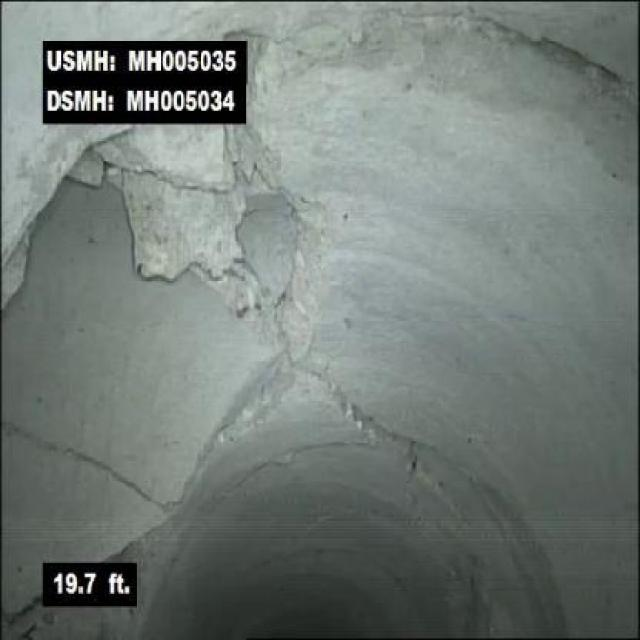Crack: (286, 348, 437, 464), (14, 426, 166, 508)
Hole: (426, 3, 628, 100)
